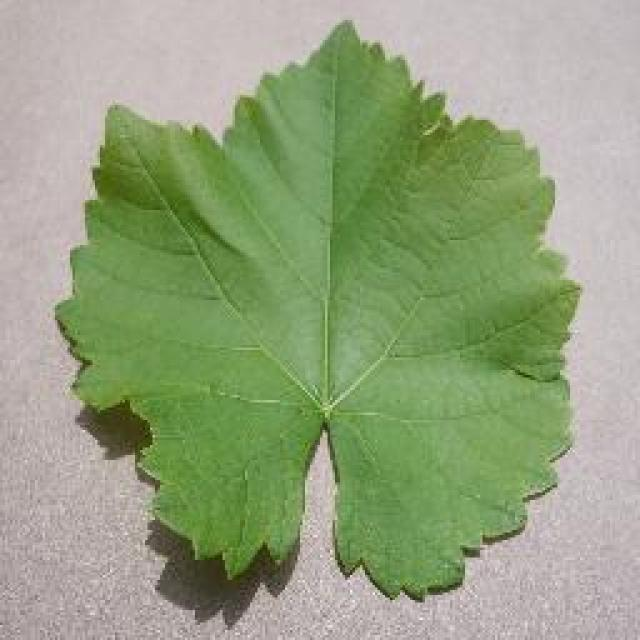Grape___healthy: (55, 22, 578, 595)
